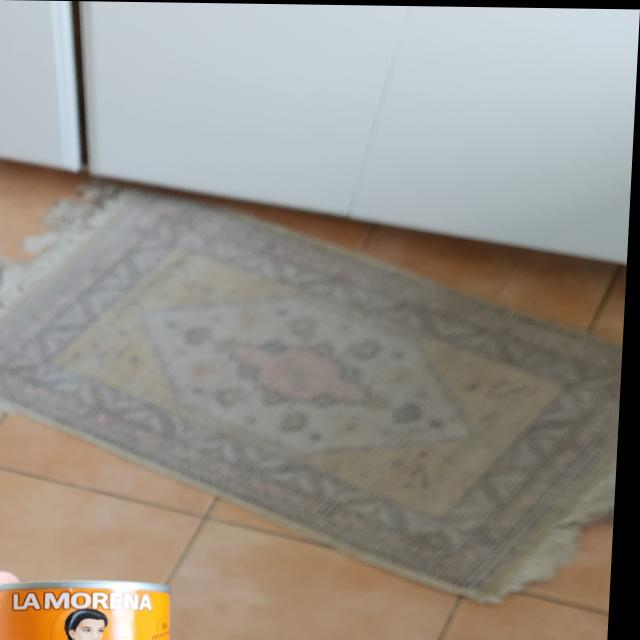beans: (0, 579, 185, 640)
